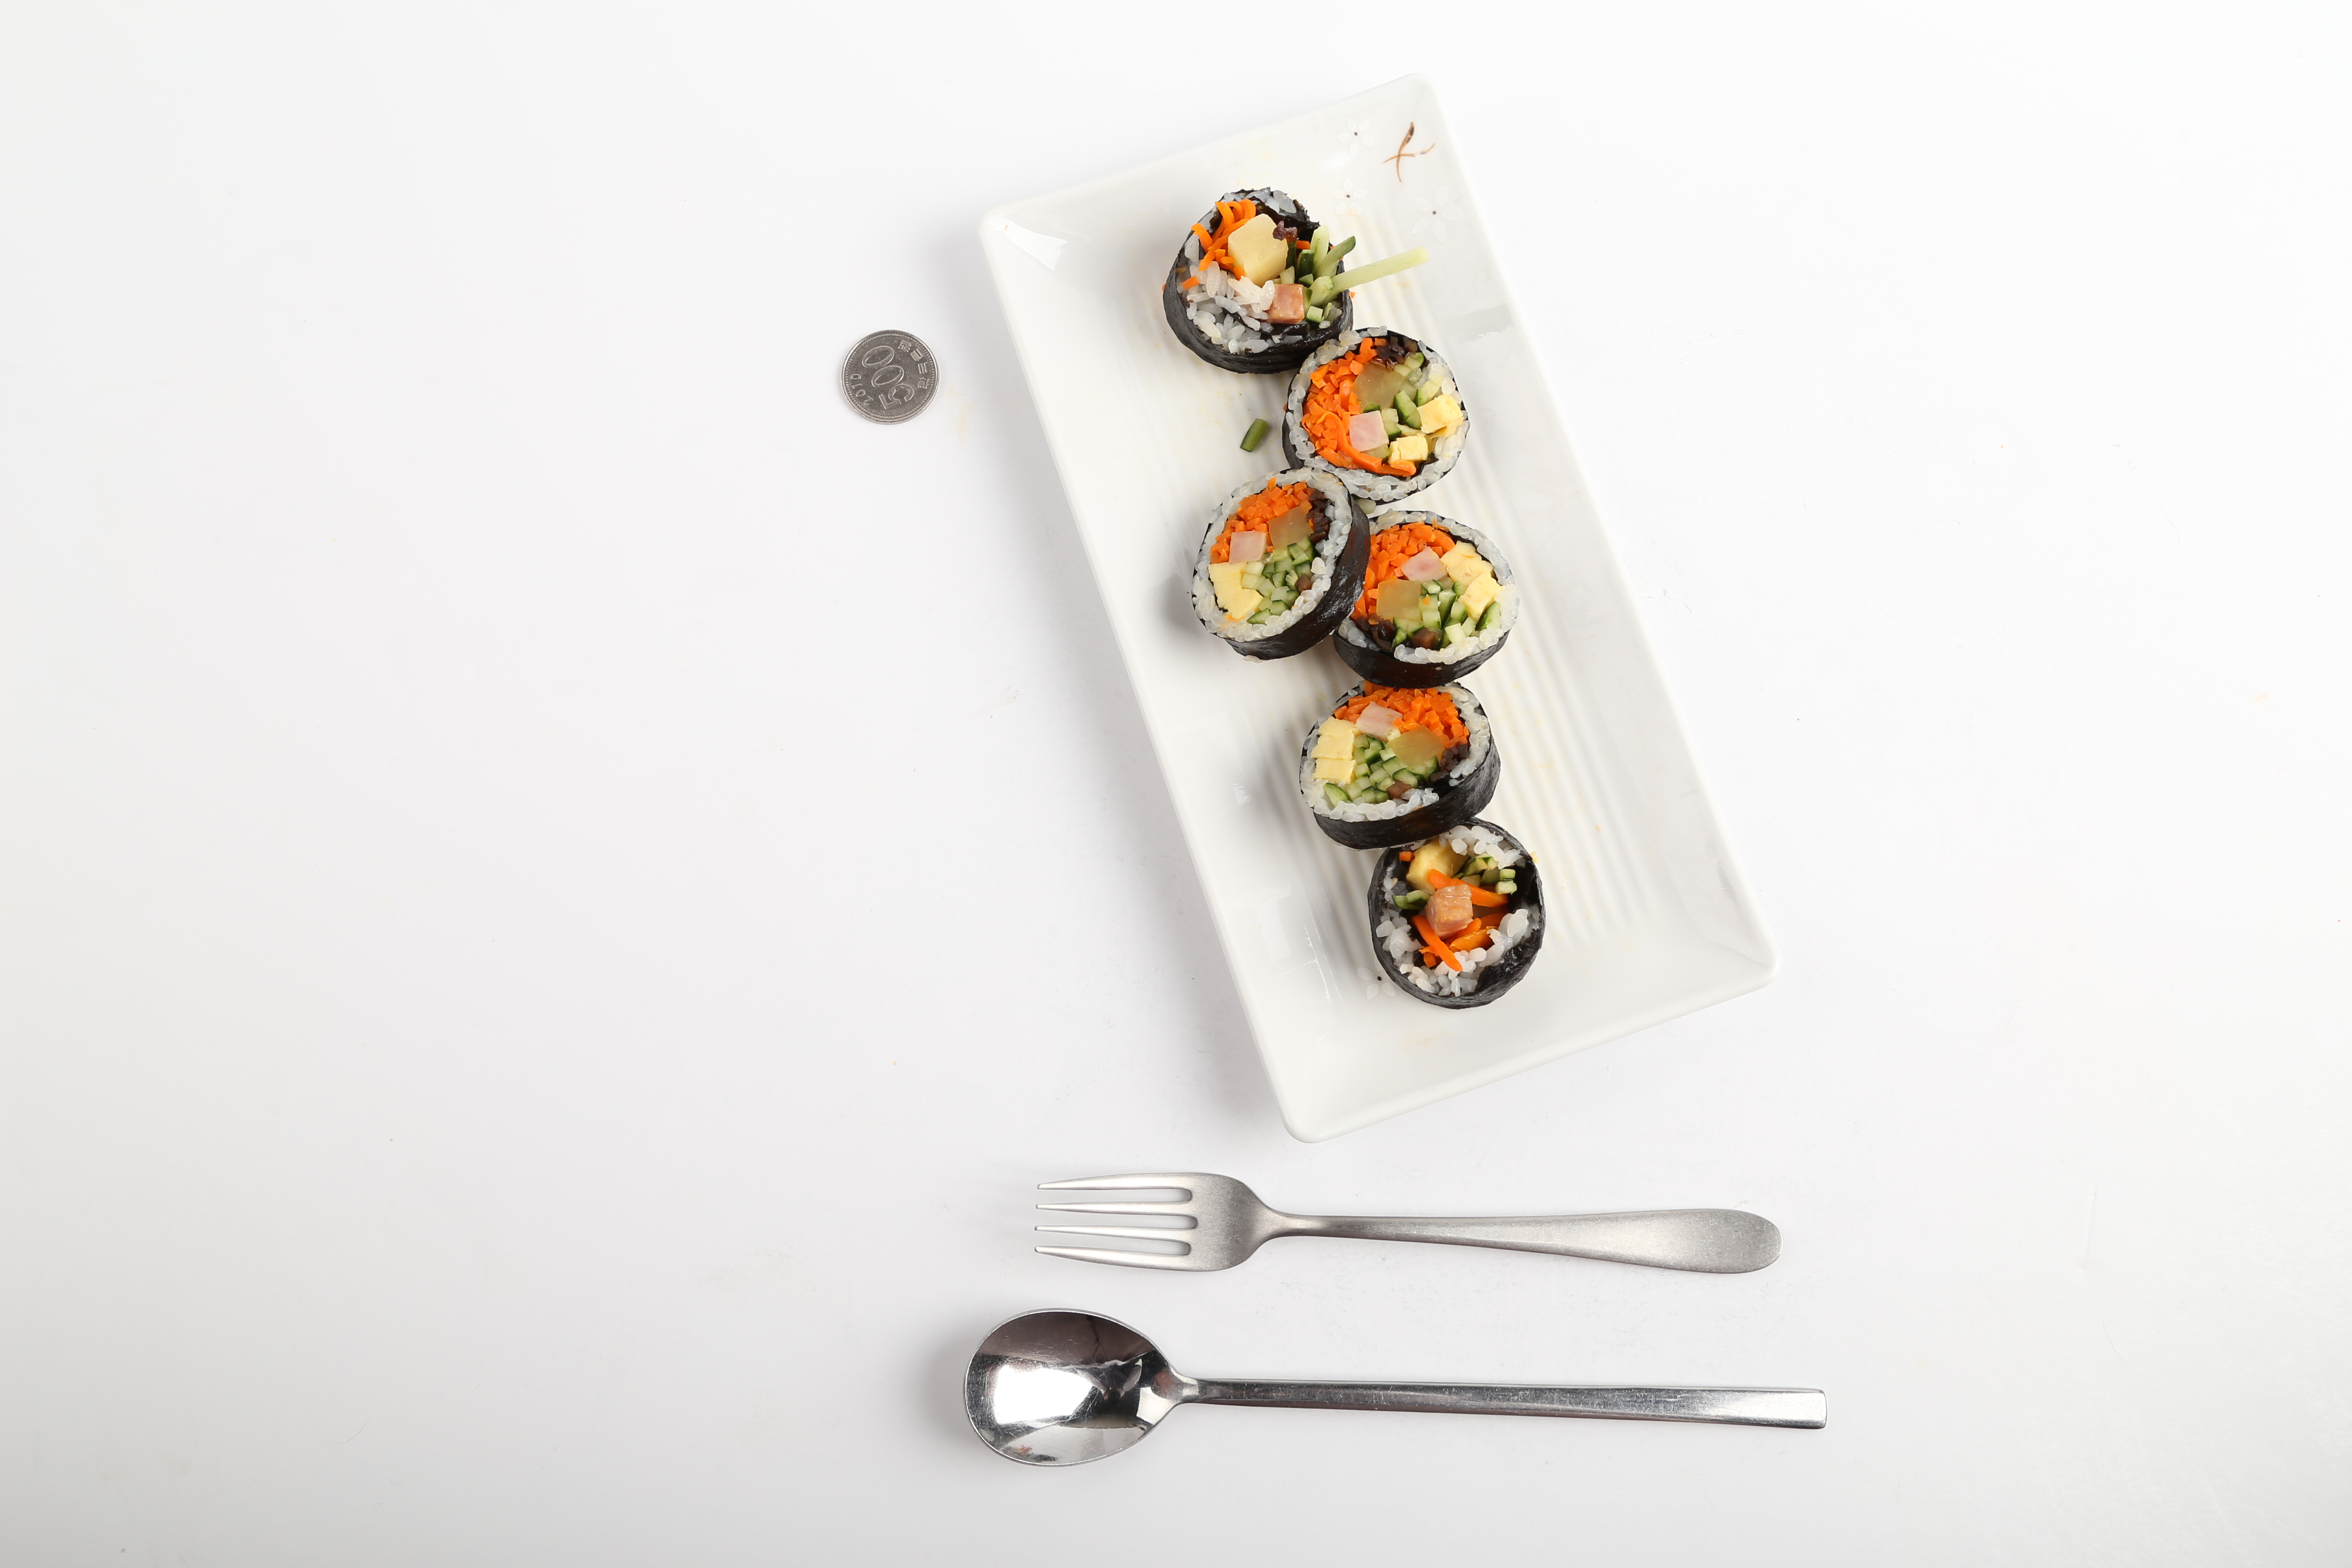dish: (983, 68, 1781, 1141)
ref_coin: (833, 318, 941, 432)
ref_fork: (1022, 1164, 1314, 1279)
ref_spoon: (957, 1302, 1242, 1473)
김밥: (1164, 180, 1550, 1010)
